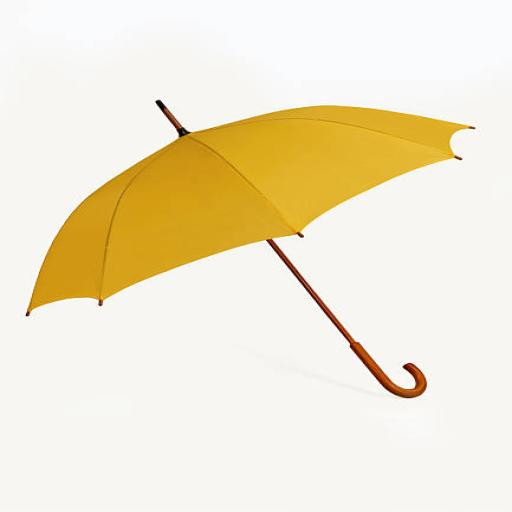guarda_chuva: (24, 99, 475, 398)
